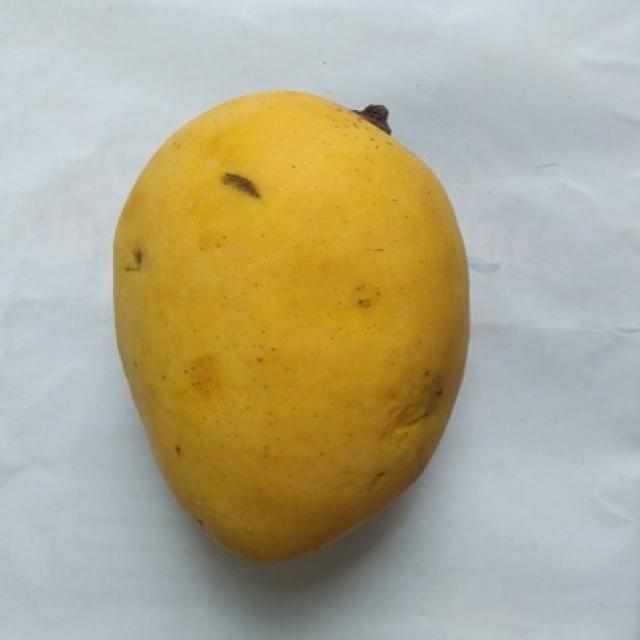Mango: (115, 91, 468, 560)
